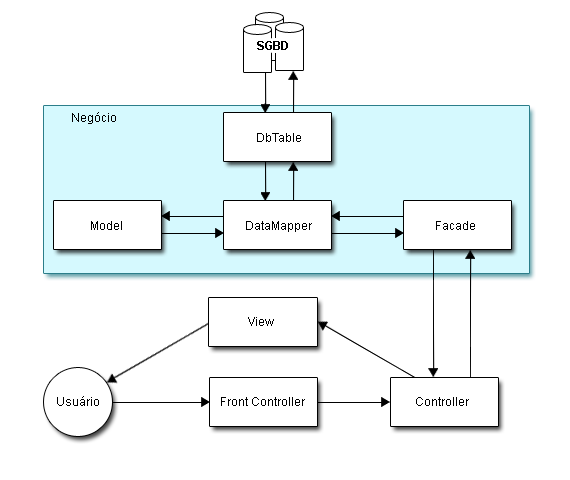API: (40, 103, 538, 277)
Aplicação: (192, 288, 518, 456)
Banco de Dados: (205, 9, 350, 87)
Usuarios: (21, 345, 152, 450)
